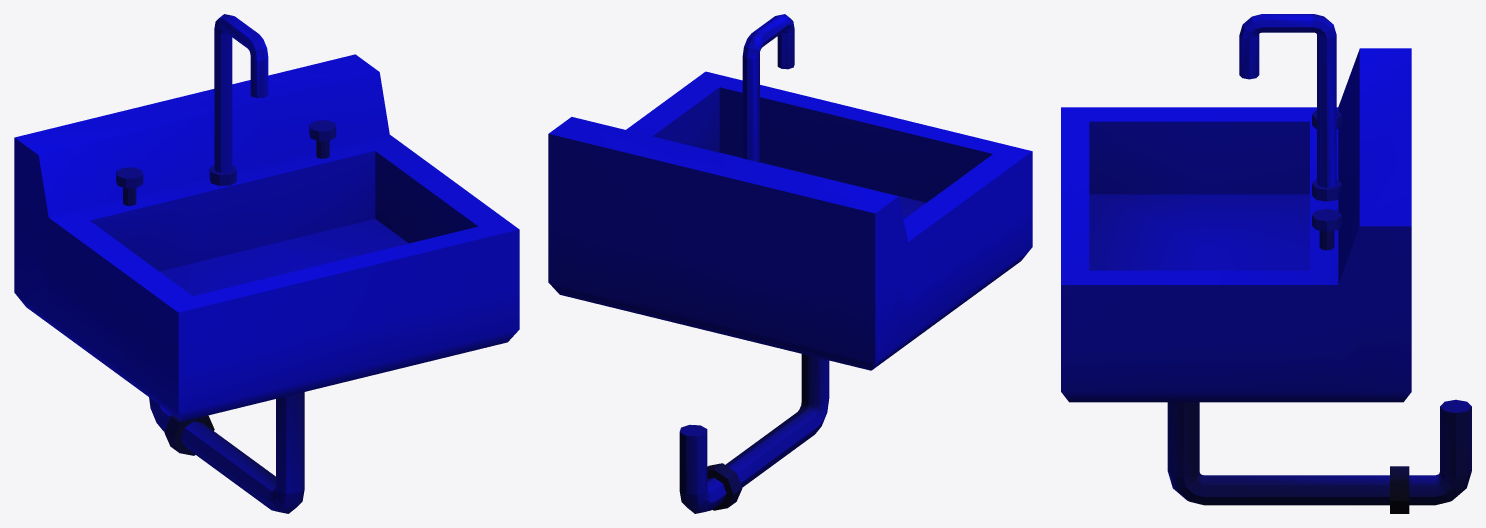
File: SinkSquare.glb
The picture shows the model from 3 angles, left to right: view 1: azimuth 30°, elevation 25°; view 2: azimuth 150°, elevation 25°; view 3: azimuth 270°, elevation 25°; orthographic projection. The views are drawn at different scales.
Visible parts, largest first — view 1: SinkSquare; view 2: SinkSquare; view 3: SinkSquare.
Boxes of the visible parts, x1,y1,x2,y2 form: SinkSquare: [14, 14, 519, 513]; SinkSquare: [548, 14, 1032, 513]; SinkSquare: [1061, 14, 1471, 513].
Size of the model in its own units: 3.11 by 4.07 by 3.03.
